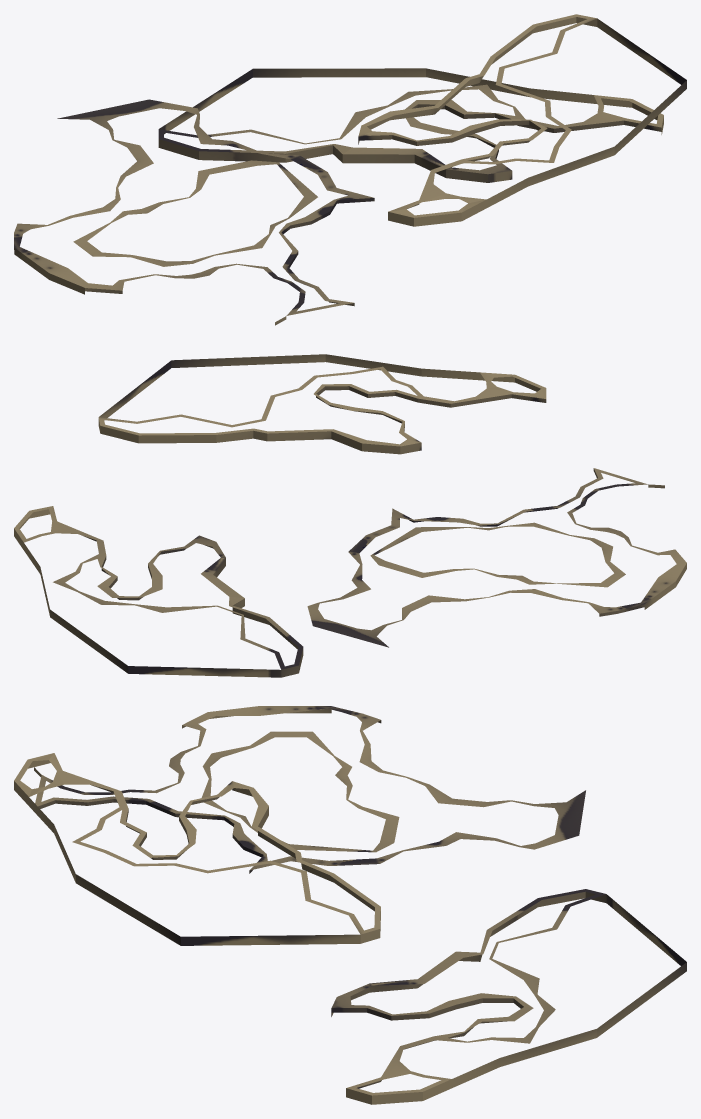
Rendered from Ground_01.FBX.
3 views of the same model, one above another, from view 1: azimuth 30°, elevation 25°; view 2: azimuth 150°, elevation 25°; view 3: azimuth 270°, elevation 25° (orthographic). The views are drawn at different scales.
Visible parts, largest first — view 1: Ground_01; view 2: Ground_01; view 3: Ground_01.
Part boxes in pixels (<box>): Ground_01: <box>14,14,686,325</box>; Ground_01: <box>14,354,686,677</box>; Ground_01: <box>14,706,686,1104</box>.
Bounding box in the file's own units: 41.26 × 7.53 × 34.26.
